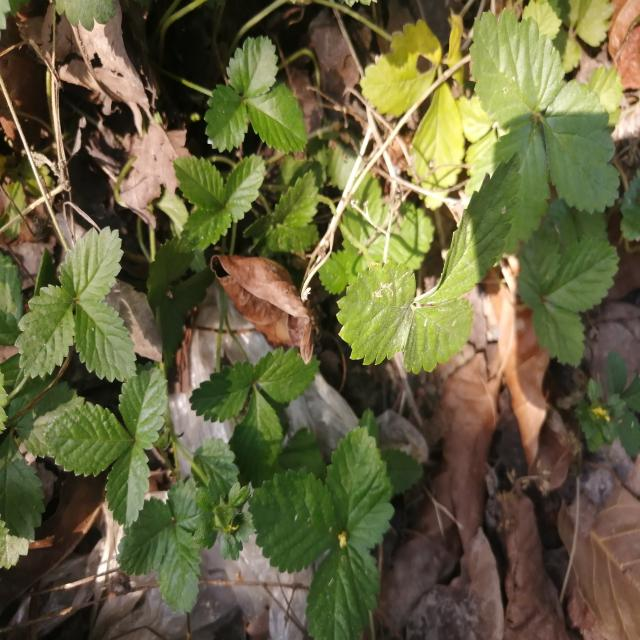Mock_strawberry: (42, 360, 243, 594), (238, 433, 405, 626)
